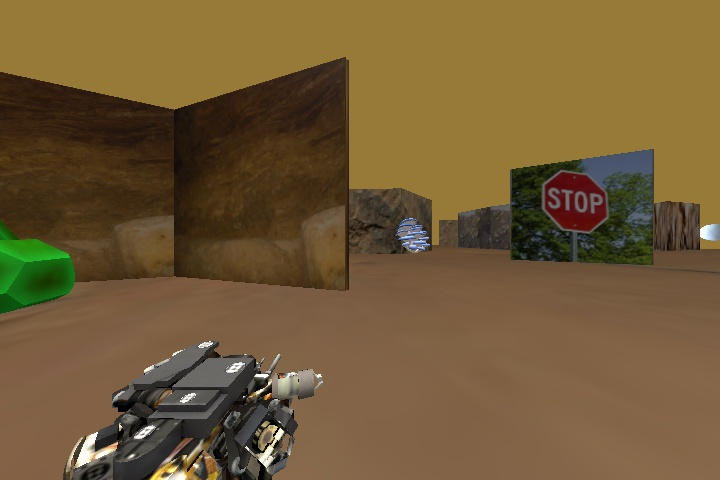gem: (0, 224, 75, 311)
mushroom: (397, 215, 430, 254)
sign: (543, 170, 608, 233)
sphere: (701, 222, 720, 242)
